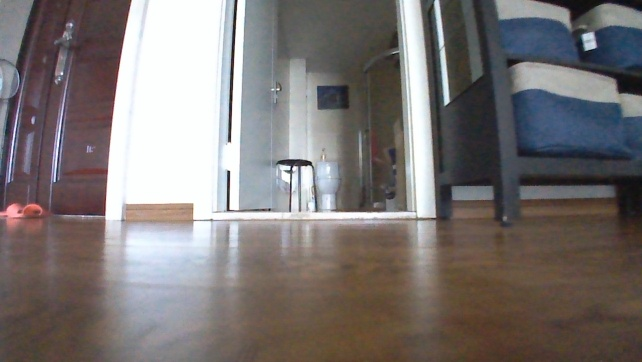door_anno: (0, 0, 133, 222), (207, 0, 285, 218)
slipper: (0, 201, 51, 220)
toilet: (311, 160, 341, 210)
